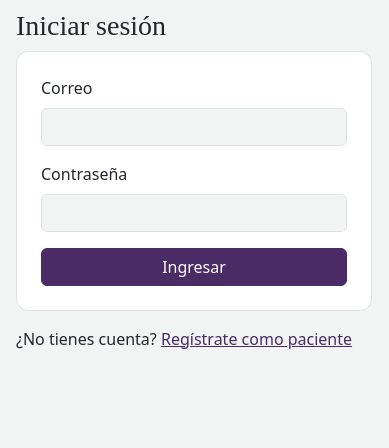
Scenario: Login, casos extra › avisa cuando la cuenta está desactivada
Type "ana.perez@correo.cl" into the field labelled "Correo" at x=194, y=127, box left=41, top=108, right=347, bottom=146
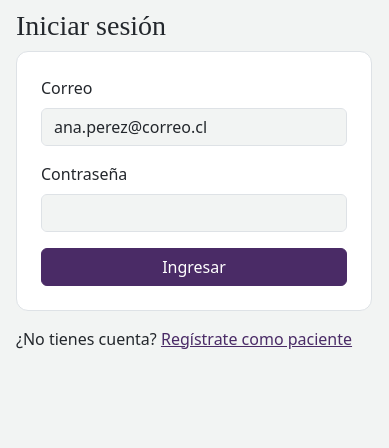
Type "Paciente2026!" into the password field labelled "Contraseña" at x=194, y=213, box left=41, top=194, right=347, bottom=232
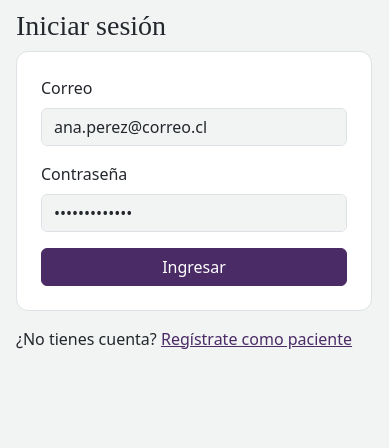
Click the button "Ingresar" at x=194, y=267, box left=41, top=248, right=347, bottom=286
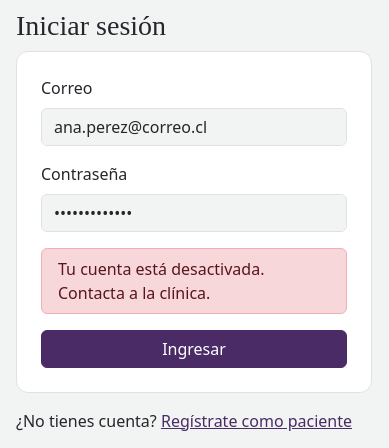
Now the message reads "Tu cuenta está desactivada. Contacta a la clínica.", box left=58, top=258, right=264, bottom=304
